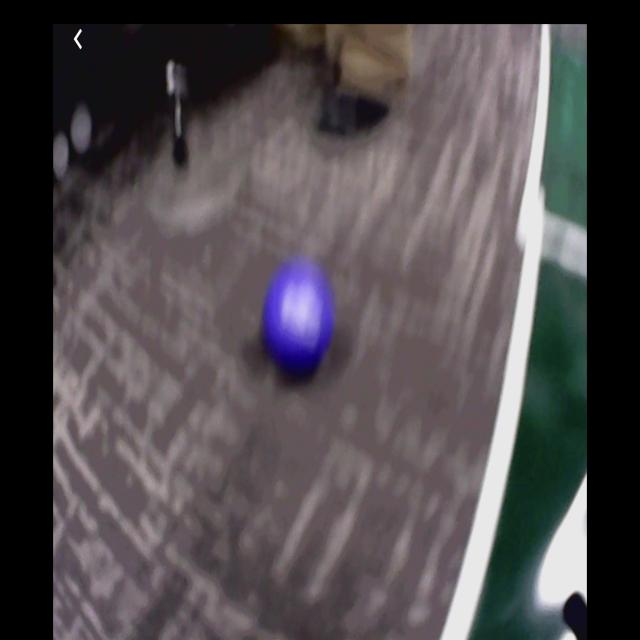ball: (263, 263, 331, 368)
